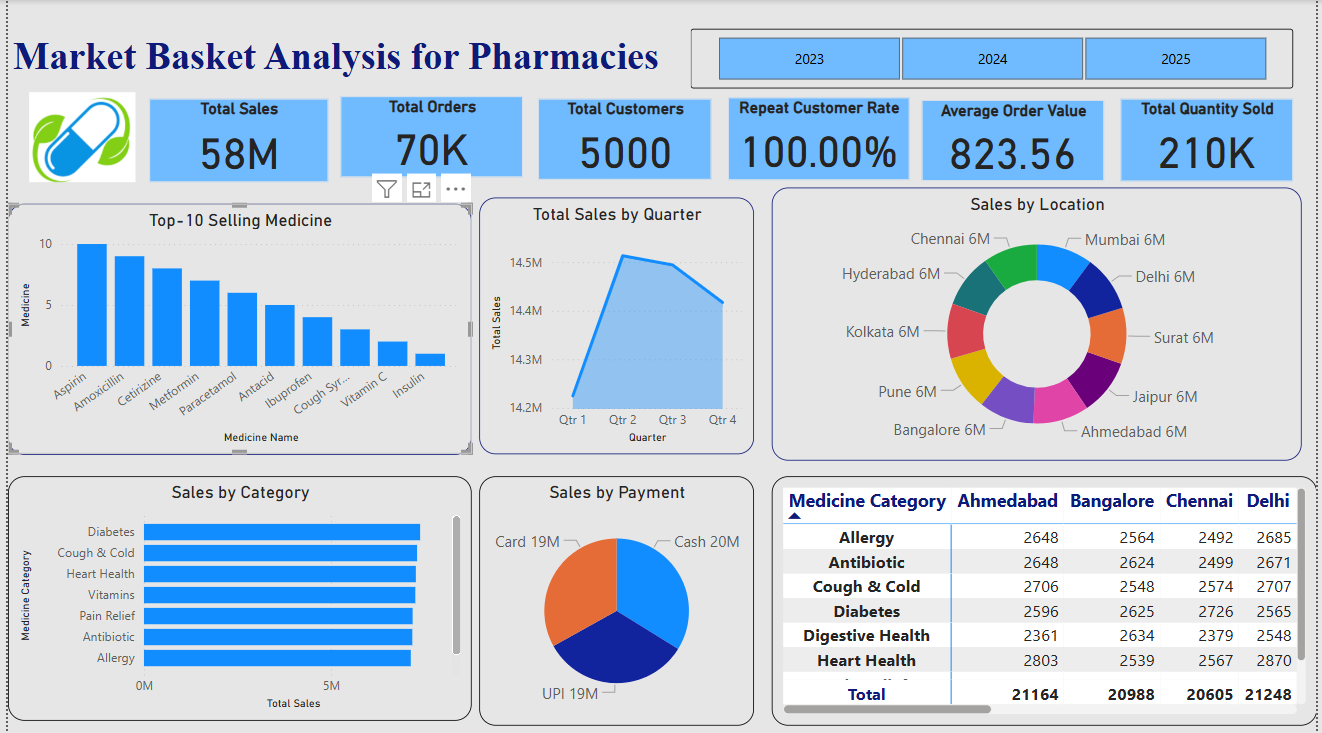

The dashboard page shown, as its layout file describes it:
{"tool":"powerbi","page":{"name":"Page 1","canvas":[1280,720],"ordinal":0},"visuals":[{"type":"card","title":"Total Sales","fields":{"Values":["pharmacy_sales_dataset.Total Sales"]},"box":[138.2,96.6,174.9,81.9],"z":0},{"type":"card","title":"Total Orders","fields":{"Values":["pharmacy_sales_dataset.Purchase Frequency"]},"box":[325.3,94.2,178.5,79.5],"z":1000},{"type":"card","title":"Total Customers","fields":{"Values":["Count(pharmacy_sales_dataset.CustomerID)"]},"box":[518.5,96.6,170,79.5],"z":2000},{"type":"card","title":"Repeat Customer Rate","fields":{"Values":["pharmacy_sales_dataset.Repeat Customer Rate"]},"box":[704.4,95.4,177.3,80.7],"z":3000},{"type":"card","title":"Average Order Value","fields":{"Values":["pharmacy_sales_dataset.Average Order Value"]},"box":[893.9,97.8,178.5,79.5],"z":4000},{"type":"clusteredColumnChart","title":"Top-10 Selling Medicine","fields":{"Category":["pharmacy_sales_dataset.MedicineName"],"Y":["pharmacy_sales_dataset.Top-Selling Medicine Rank"]},"box":[0,199,453.5,245.3],"z":5000},{"type":"barChart","title":"Sales by Category","fields":{"Category":["pharmacy_sales_dataset.MedicineCategory"],"Y":["pharmacy_sales_dataset.Total Sales"]},"box":[0,465.8,453.5,239.1],"z":6000},{"type":"stackedAreaChart","fields":{"Category":["pharmacy_sales_dataset.OrderDate.Variation.Date Hierarchy.Quarter"],"Y":["pharmacy_sales_dataset.Total Sales"]},"box":[461.2,192.8,268.4,251.4],"z":7000},{"type":"pieChart","title":"Sales by Payment","fields":{"Category":["pharmacy_sales_dataset.PaymentMethod"],"Y":["Sum(pharmacy_sales_dataset.SalesAmount)"]},"box":[461.2,465.8,268.4,243.7],"z":8000},{"type":"donutChart","title":"Sales by Location","fields":{"Category":["pharmacy_sales_dataset.StoreLocation"],"Y":["pharmacy_sales_dataset.Total Sales"]},"box":[746.6,183.6,518.3,266.9],"z":9000},{"type":"card","title":"Total Quantity Sold","fields":{"Values":["pharmacy_sales_dataset.Total Quantity"]},"box":[1088.3,96.6,168.8,80.7],"z":10000},{"type":"pivotTable","fields":{"Rows":["pharmacy_sales_dataset.MedicineCategory"],"Columns":["pharmacy_sales_dataset.StoreLocation"],"Values":["pharmacy_sales_dataset.Total Quantity"]},"box":[746.6,465.8,533.7,243.7],"z":11000},{"type":"slicer","fields":{"Values":["pharmacy_sales_dataset.OrderDate.Variation.Date Hierarchy.Year"]},"box":[667.9,27.8,589.3,58.6],"z":12000},{"type":"textbox","box":[0,27.8,667.9,58.6],"z":13000},{"type":"image","box":[15.9,75.8,113.7,117.4],"z":13001}]}

Visuals, with their boxes in screenshot pixels (x1, y1, x2, y2), scaled from the page's 1280x720 canvas onto the 1322x733 screenshot:
"Total Sales" card: 143,98,323,182
"Total Orders" card: 336,96,520,177
"Total Customers" card: 536,98,711,179
"Repeat Customer Rate" card: 728,97,911,179
"Average Order Value" card: 923,100,1108,181
"Top-10 Selling Medicine" clusteredColumnChart: 0,203,468,452
"Sales by Category" barChart: 0,474,468,718
stackedAreaChart - pharmacy_sales_dataset.OrderDate.Variation.Date Hierarchy.Quarter x pharmacy_sales_dataset.Total Sales: 476,196,754,452
"Sales by Payment" pieChart: 476,474,754,722
"Sales by Location" donutChart: 771,187,1306,459
"Total Quantity Sold" card: 1124,98,1298,181
pivotTable - pharmacy_sales_dataset.MedicineCategory x pharmacy_sales_dataset.StoreLocation: 771,474,1321,722
slicer - pharmacy_sales_dataset.OrderDate.Variation.Date Hierarchy.Year: 690,28,1298,88
textbox: 0,28,690,88
image: 16,77,134,197
